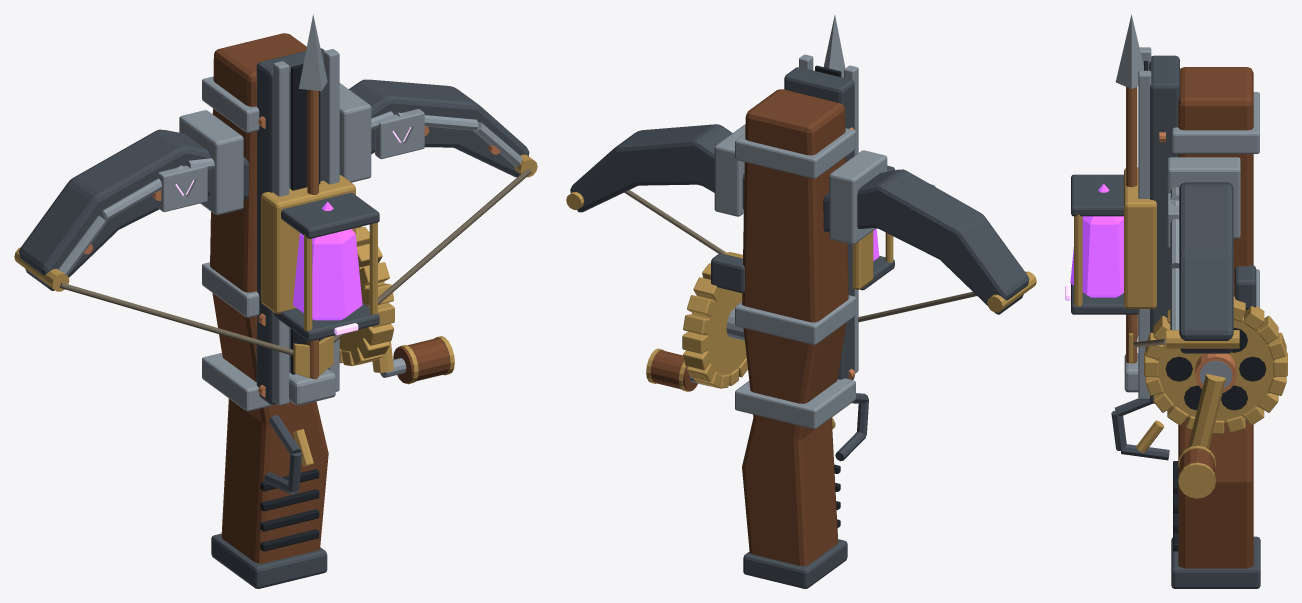
The model's file is original.glb.
3 views of the same model, side by side, from view 1: azimuth 30°, elevation 25°; view 2: azimuth 150°, elevation 25°; view 3: azimuth 270°, elevation 25° (orthographic). The views are drawn at different scales.
Visible parts, largest first — view 1: 01 Walnut tiller, 06 Reinforced limbs, 05 Rail, 15 Crystal cage, 02 Stock fittings, 08 Limb clamps, 16 Amethyst heart, 19 Quarrel, 18 Rune braces, 07 Limb laminations, 12 Winding wheel, 20 Latch and trigger (+3 smaller); view 2: 01 Walnut tiller, 06 Reinforced limbs, 02 Stock fittings, 08 Limb clamps, 12 Winding wheel, 05 Rail, 15 Crystal cage, 14 Crank handle, 11 Crank axle, 09 Bowstring, 20 Latch and trigger, 19 Quarrel; view 3: 01 Walnut tiller, 06 Reinforced limbs, 12 Winding wheel, 15 Crystal cage, 05 Rail, 02 Stock fittings, 16 Amethyst heart, 08 Limb clamps, 14 Crank handle, 19 Quarrel, 13 Wheel ports, 20 Latch and trigger (+4 smaller).
Boxes of the visible parts, bbox=[...] form: 01 Walnut tiller: bbox=[210, 33, 328, 563]; 06 Reinforced limbs: bbox=[19, 79, 529, 290]; 05 Rail: bbox=[256, 48, 339, 405]; 15 Crystal cage: bbox=[261, 175, 379, 341]; 02 Stock fittings: bbox=[202, 76, 327, 588]; 08 Limb clamps: bbox=[14, 83, 537, 291]; 16 Amethyst heart: bbox=[293, 201, 362, 320]; 19 Quarrel: bbox=[293, 14, 333, 379]; 18 Rune braces: bbox=[158, 109, 424, 212]; 07 Limb laminations: bbox=[58, 111, 522, 275]; 12 Winding wheel: bbox=[339, 226, 394, 365]; 20 Latch and trigger: bbox=[264, 369, 335, 494]; 01 Walnut tiller: bbox=[742, 89, 848, 566]; 06 Reinforced limbs: bbox=[570, 124, 1029, 314]; 02 Stock fittings: bbox=[735, 128, 855, 588]; 08 Limb clamps: bbox=[566, 124, 1036, 312]; 12 Winding wheel: bbox=[682, 252, 747, 388]; 05 Rail: bbox=[784, 54, 858, 379]; 15 Crystal cage: bbox=[852, 165, 894, 290]; 14 Crank handle: bbox=[646, 348, 709, 391]; 11 Crank axle: bbox=[711, 253, 744, 340]; 09 Bowstring: bbox=[624, 190, 976, 322]; 20 Latch and trigger: bbox=[831, 393, 868, 461]; 19 Quarrel: bbox=[823, 15, 845, 77]; 01 Walnut tiller: bbox=[1178, 67, 1253, 568]; 06 Reinforced limbs: bbox=[1179, 182, 1233, 353]; 12 Winding wheel: bbox=[1144, 296, 1287, 433]; 15 Crystal cage: bbox=[1071, 167, 1156, 314]; 05 Rail: bbox=[1138, 47, 1179, 403]; 02 Stock fittings: bbox=[1171, 92, 1260, 588]; 16 Amethyst heart: bbox=[1070, 184, 1123, 297]; 08 Limb clamps: bbox=[1166, 157, 1240, 348]; 14 Crank handle: bbox=[1178, 374, 1225, 498]; 19 Quarrel: bbox=[1115, 14, 1143, 363]; 13 Wheel ports: bbox=[1165, 327, 1266, 410]; 20 Latch and trigger: bbox=[1111, 353, 1169, 460].
Size of the model in its own units: 1.14 by 1.31 by 0.4725.
